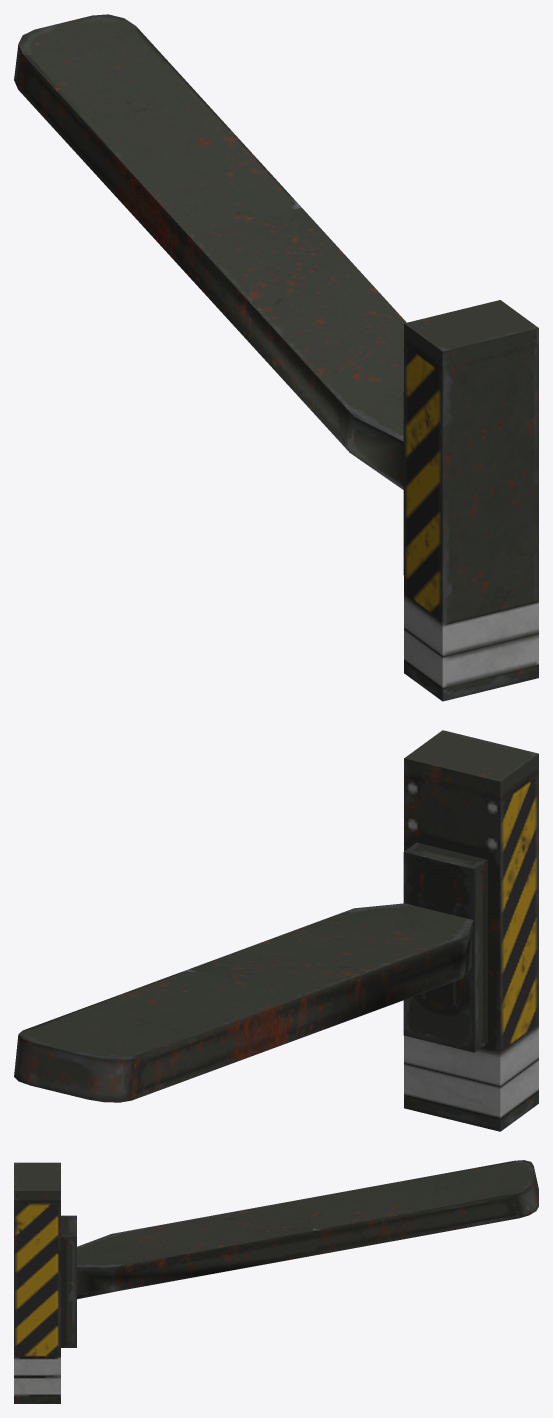
File: CP_Wall_Lamp_01.fbx
3 renders of one model, top to bottom at view 1: azimuth 30°, elevation 25°; view 2: azimuth 150°, elevation 25°; view 3: azimuth 270°, elevation 25°, orthographic. The views are drawn at different scales.
Parts seen in each view (by area): view 1: CP_Wall_Lamp_01; view 2: CP_Wall_Lamp_01; view 3: CP_Wall_Lamp_01.
Boxes of the visible parts, x1=… form: CP_Wall_Lamp_01: x1=14, y1=14, x2=538, y2=701; CP_Wall_Lamp_01: x1=14, y1=730, x2=538, y2=1131; CP_Wall_Lamp_01: x1=14, y1=1160, x2=538, y2=1403.
Bounding box in the file's own units: 18.96 × 56.58 × 125.
